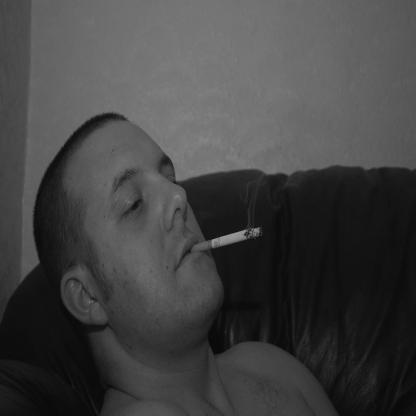smoking: (190, 226, 262, 254)
